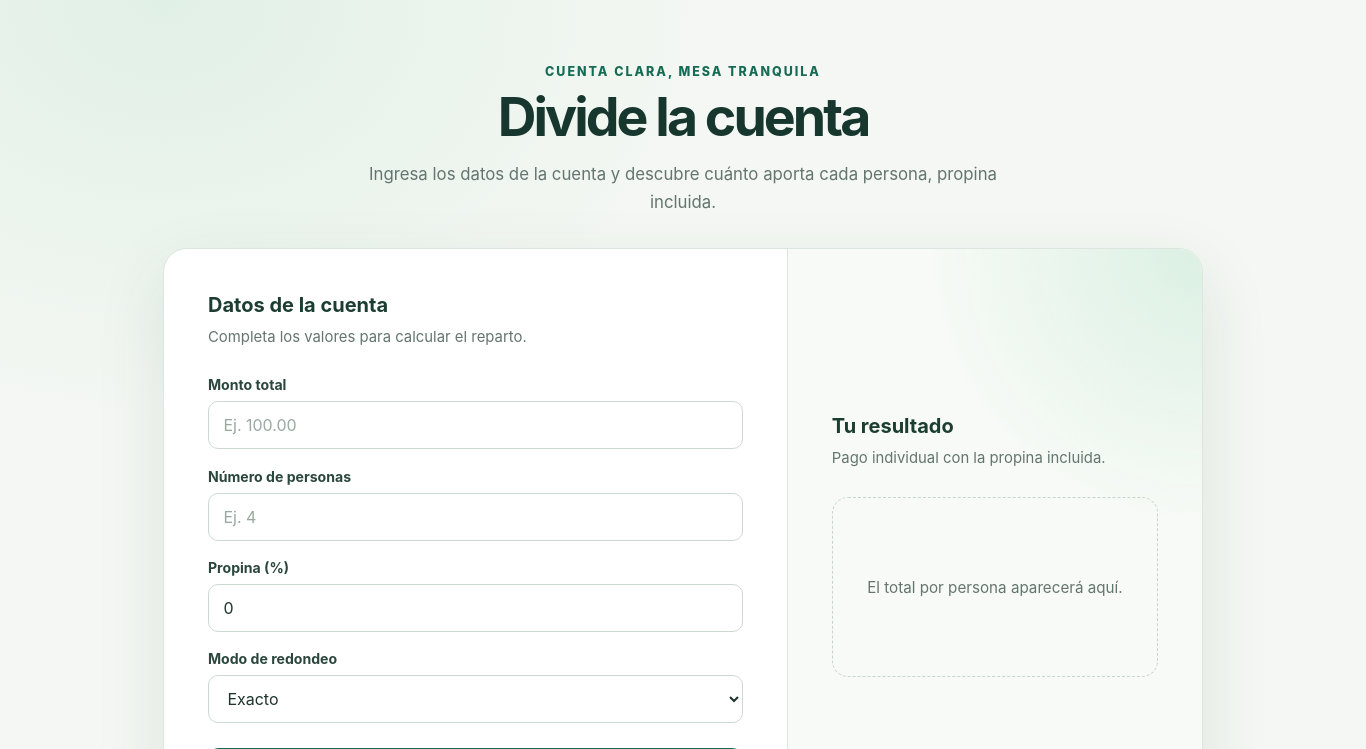
Scenario: pantalla del divisor › muestra error con cero personas y no presenta resultado
Type "50" into the field labelled "Monto total" at (475, 425), box [208,401,743,449]
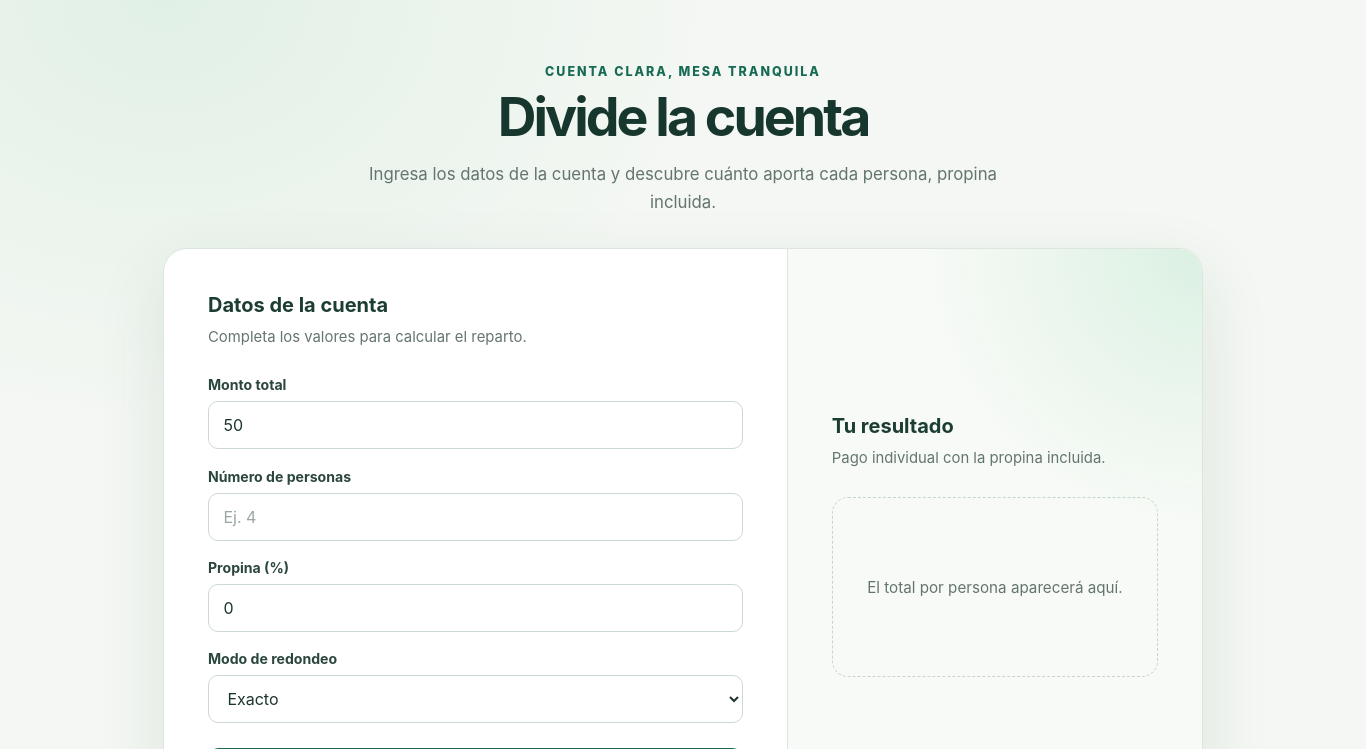
Type "0" into the field labelled "Número de personas" at (475, 517), box [208,493,743,541]
(page scrolled)
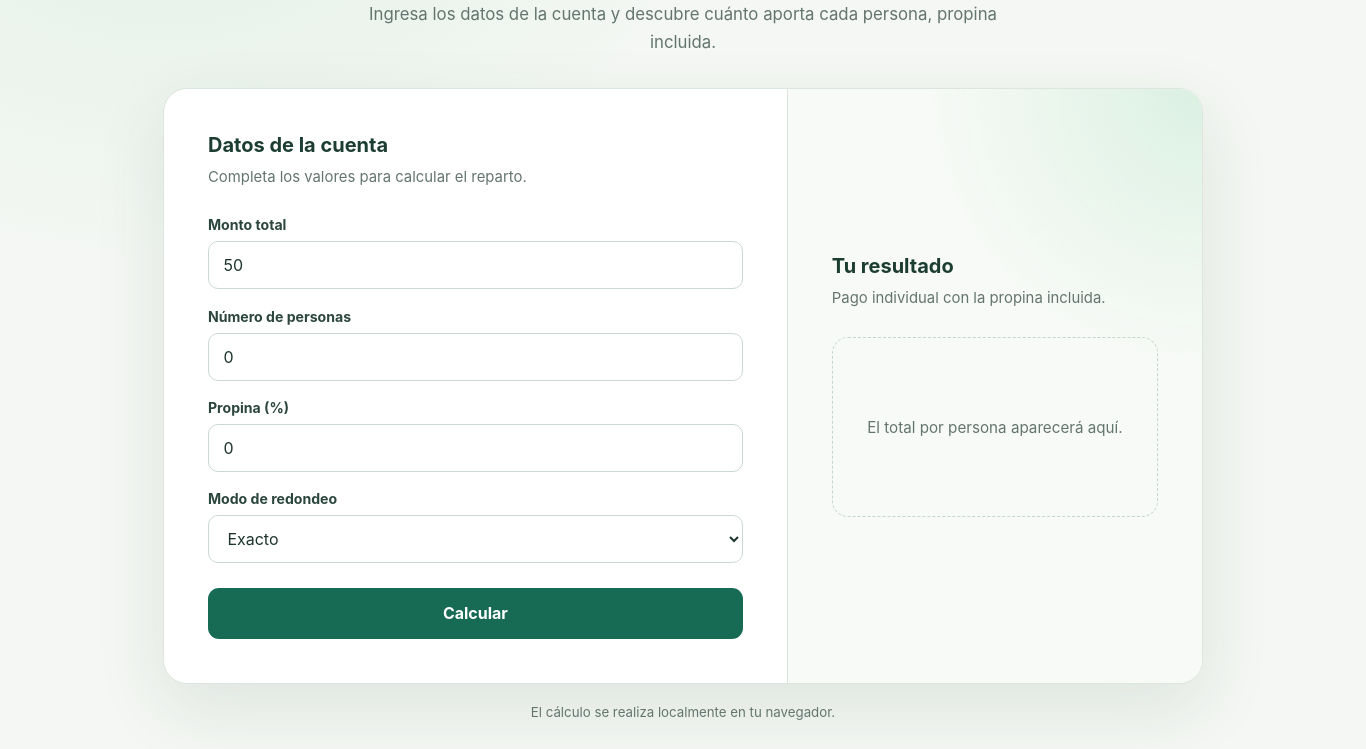
Click the button "Calcular" at (475, 614), box [208,588,743,639]
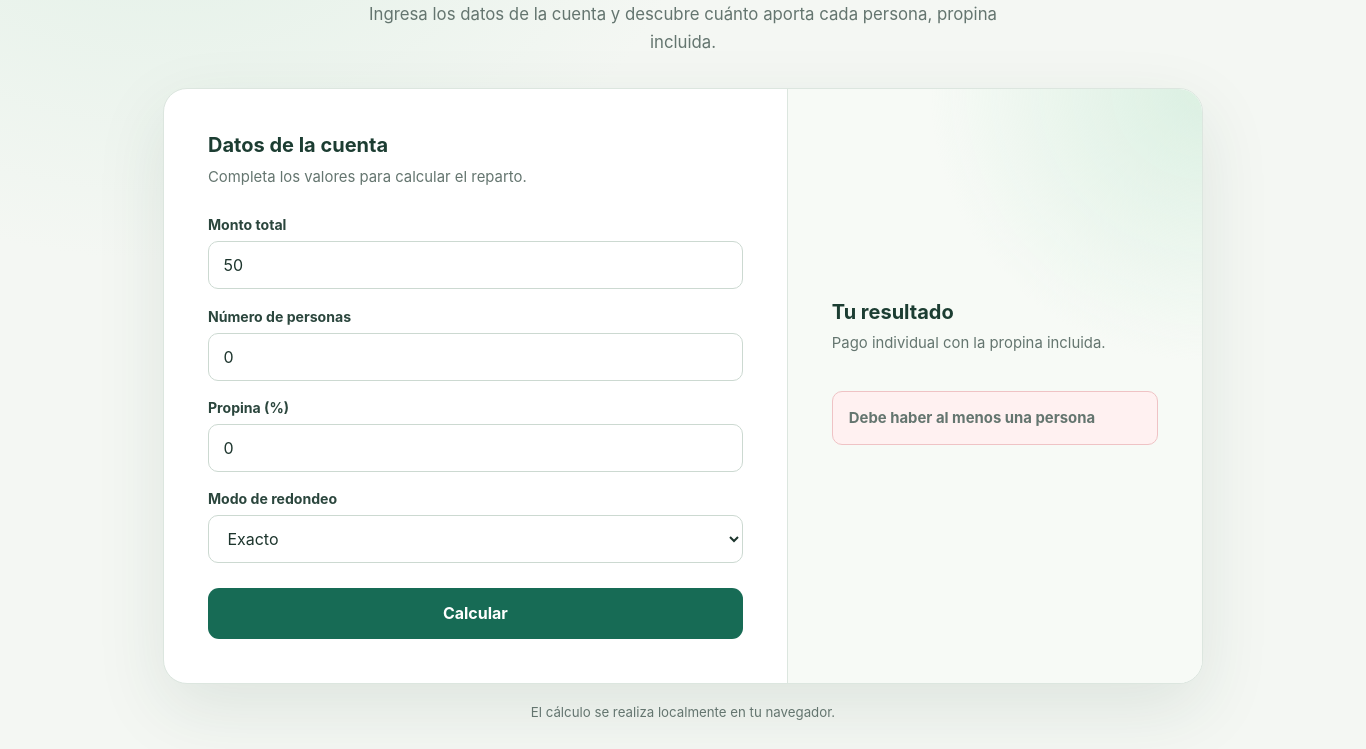
Check: the message reads "Debe haber al menos una persona", box [849,409,1095,427]
